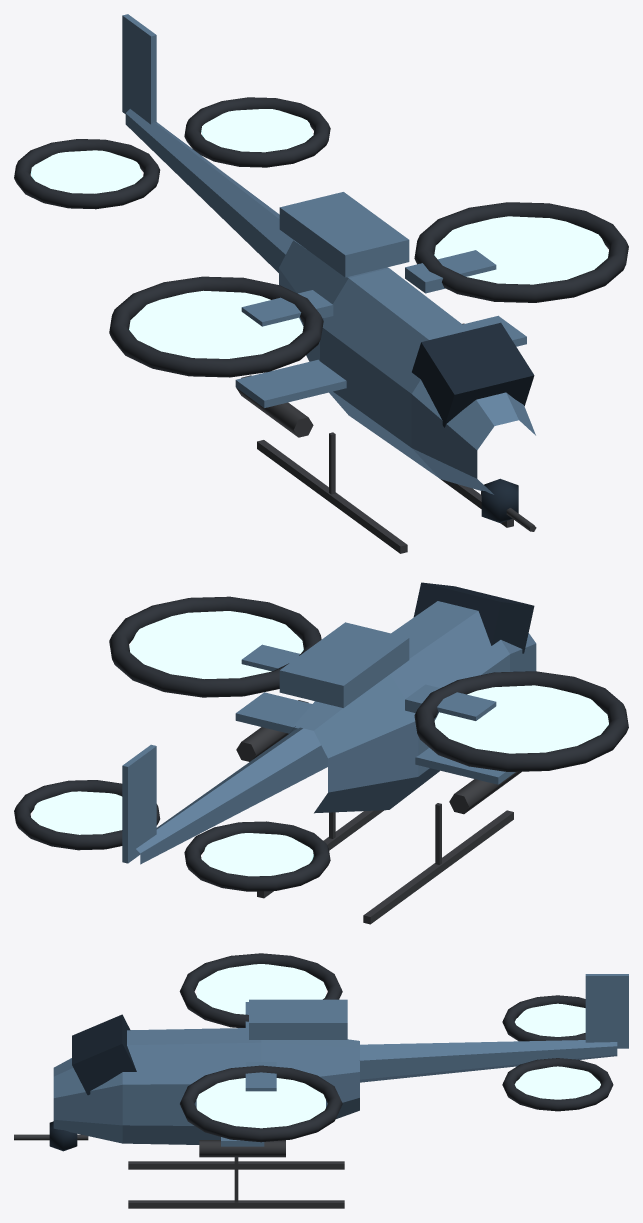
File: veh_air_heli_attack_a10.glb
3 views of the same model, one above another, from view 1: azimuth 30°, elevation 25°; view 2: azimuth 150°, elevation 25°; view 3: azimuth 270°, elevation 25° (orthographic). The views are drawn at different scales.
Visible parts, largest first — view 1: body, rotor_r, rotor_l, rotor_aft_r, rotor_aft_l; view 2: body, rotor_r, rotor_l, rotor_aft_r, rotor_aft_l; view 3: body, rotor_l, rotor_r, rotor_aft_l, rotor_aft_r.
Boxes of the visible parts, x1,y1,x2,y2 form: body: (122,14,535,553); rotor_r: (109,276,323,377); rotor_l: (414,202,628,302); rotor_aft_r: (14,139,160,209); rotor_aft_l: (184,97,330,167); body: (122,582,536,924); rotor_r: (414,671,628,771); rotor_l: (109,596,321,697); rotor_aft_r: (184,821,330,891); rotor_aft_l: (14,780,160,850); body: (49,974,628,1208); rotor_l: (180,1065,342,1142); rotor_r: (179,953,342,1027); rotor_aft_l: (502,1058,613,1111); rotor_aft_r: (502,995,585,1041).
Size of what is drawn, in the model's own units: 6.94 by 3.8 by 9.95.
